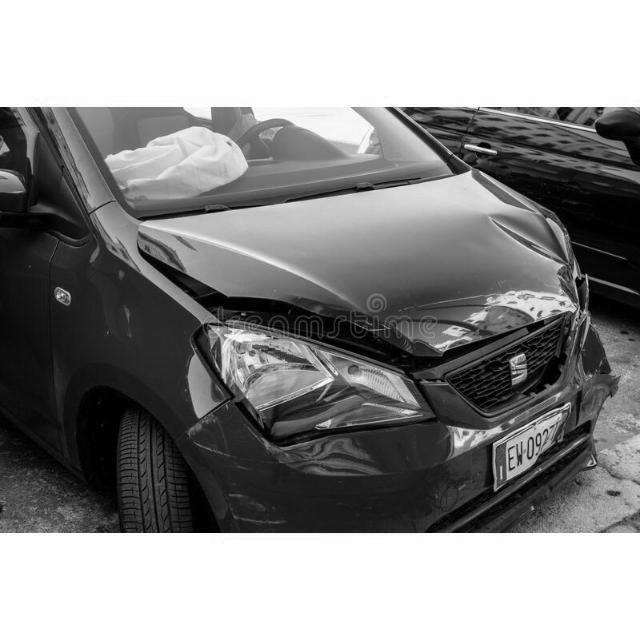bonnet-dent: (123, 225, 587, 382)
front-bumper-dent: (154, 378, 498, 532)
